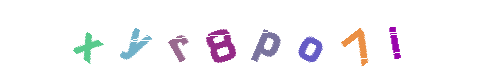7: (270, 0, 350, 80)
8: (195, 0, 275, 80)
I: (318, 0, 398, 80)
O: (230, 0, 310, 80)
P: (200, 0, 280, 80)
R: (184, 0, 264, 80)
X: (47, 0, 127, 80)
Y: (100, 0, 180, 80)
